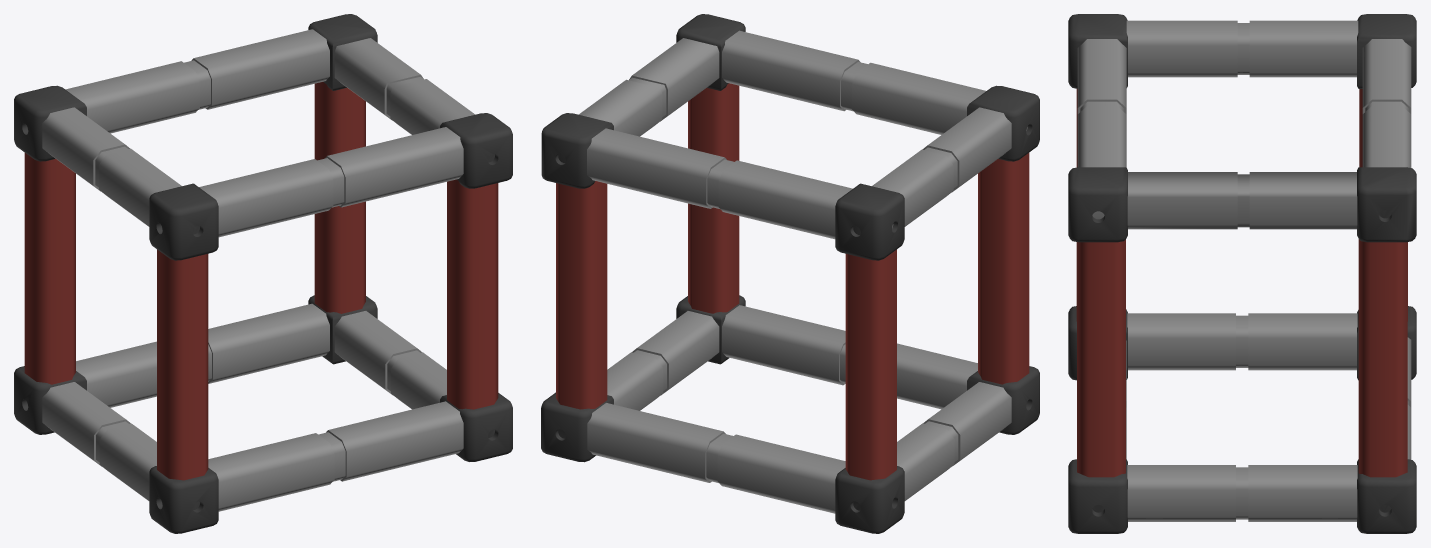
File: Modular_Frame_Final.fbx
3 views of the same model, side by side, from view 1: azimuth 30°, elevation 25°; view 2: azimuth 150°, elevation 25°; view 3: azimuth 270°, elevation 25° (orthographic). The views are drawn at different scales.
Visible parts, largest first — view 1: Cube.099; view 2: Cube.099; view 3: Cube.099.
Part boxes in pixels (box(x1,y1,x2,y2)): Cube.099: box(14, 14, 512, 533); Cube.099: box(541, 14, 1039, 533); Cube.099: box(1068, 14, 1416, 533).
Size of the model in its own units: 100 by 90.37 by 82.53.
